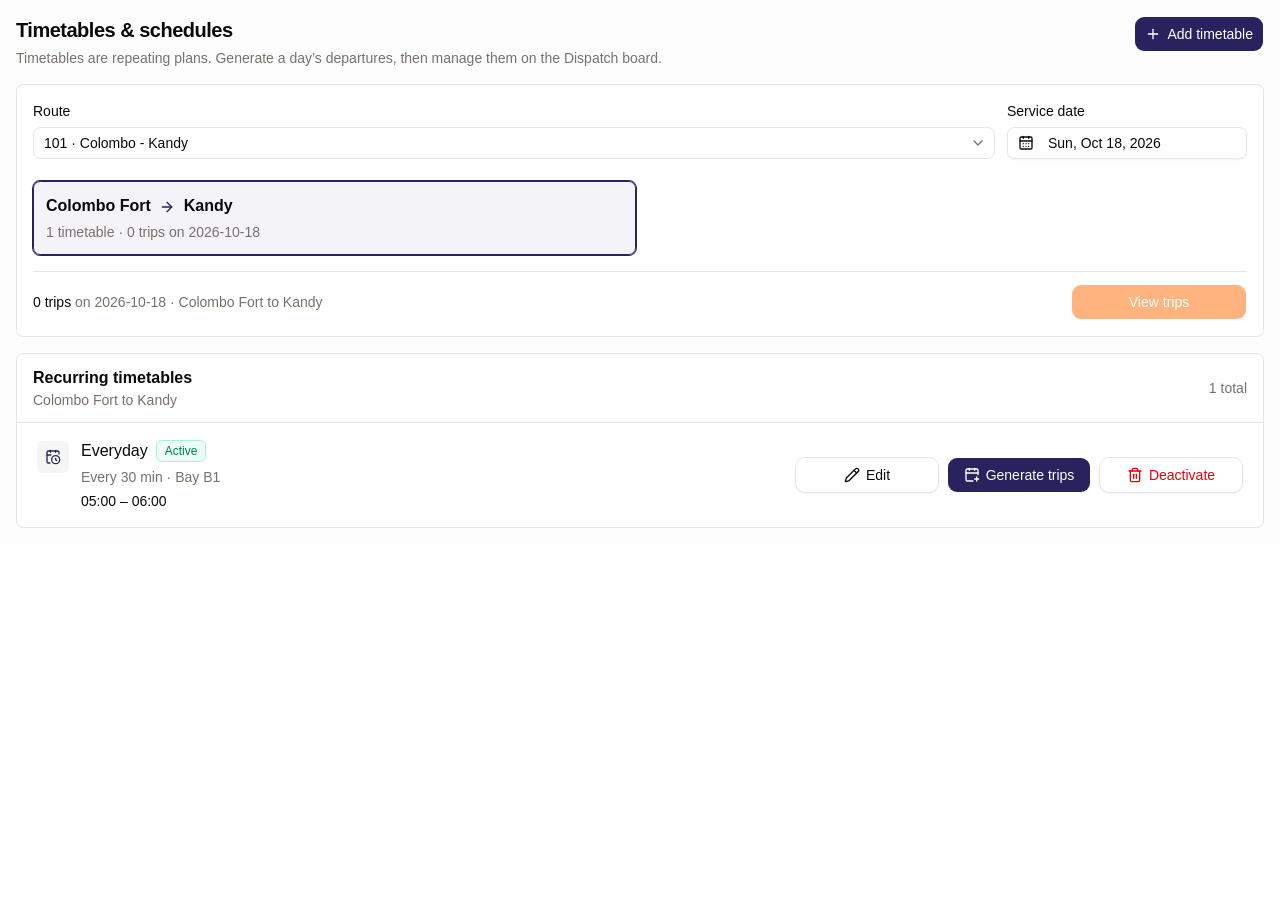
it: TimetablesPage actions › sends POST generate-trips with the service date and shows the generation summary
This screenshot has width=1280, height=900.
Step 1. Click the button "Generate trips" → click(1019, 475), box top-left (947, 457), bottom-right (1091, 493)
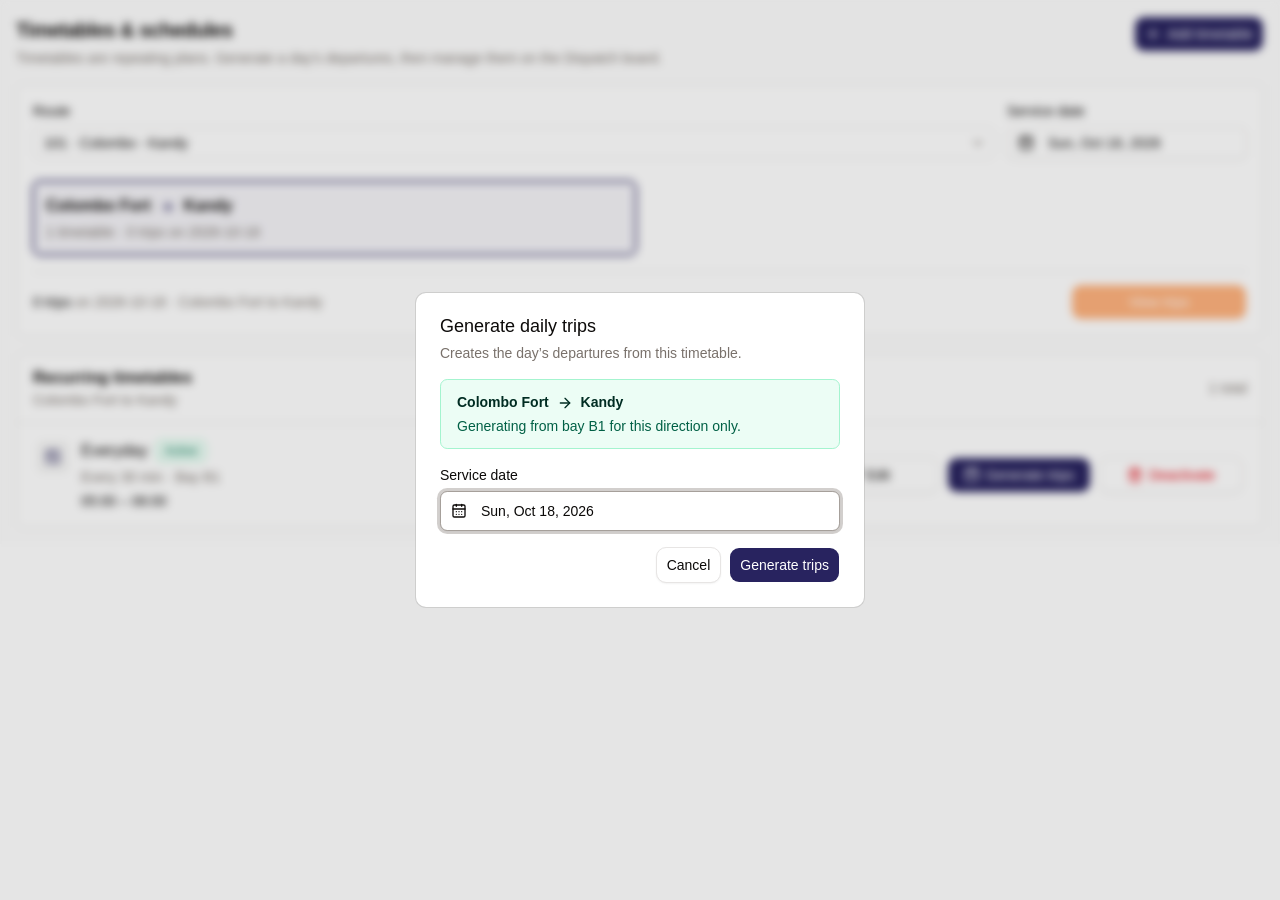
Result: the heading "Generate daily trips" is shown at top-left (440, 316), bottom-right (596, 336)
Step 2. Click the button "Generate trips" → click(785, 565), box top-left (729, 547), bottom-right (840, 583)
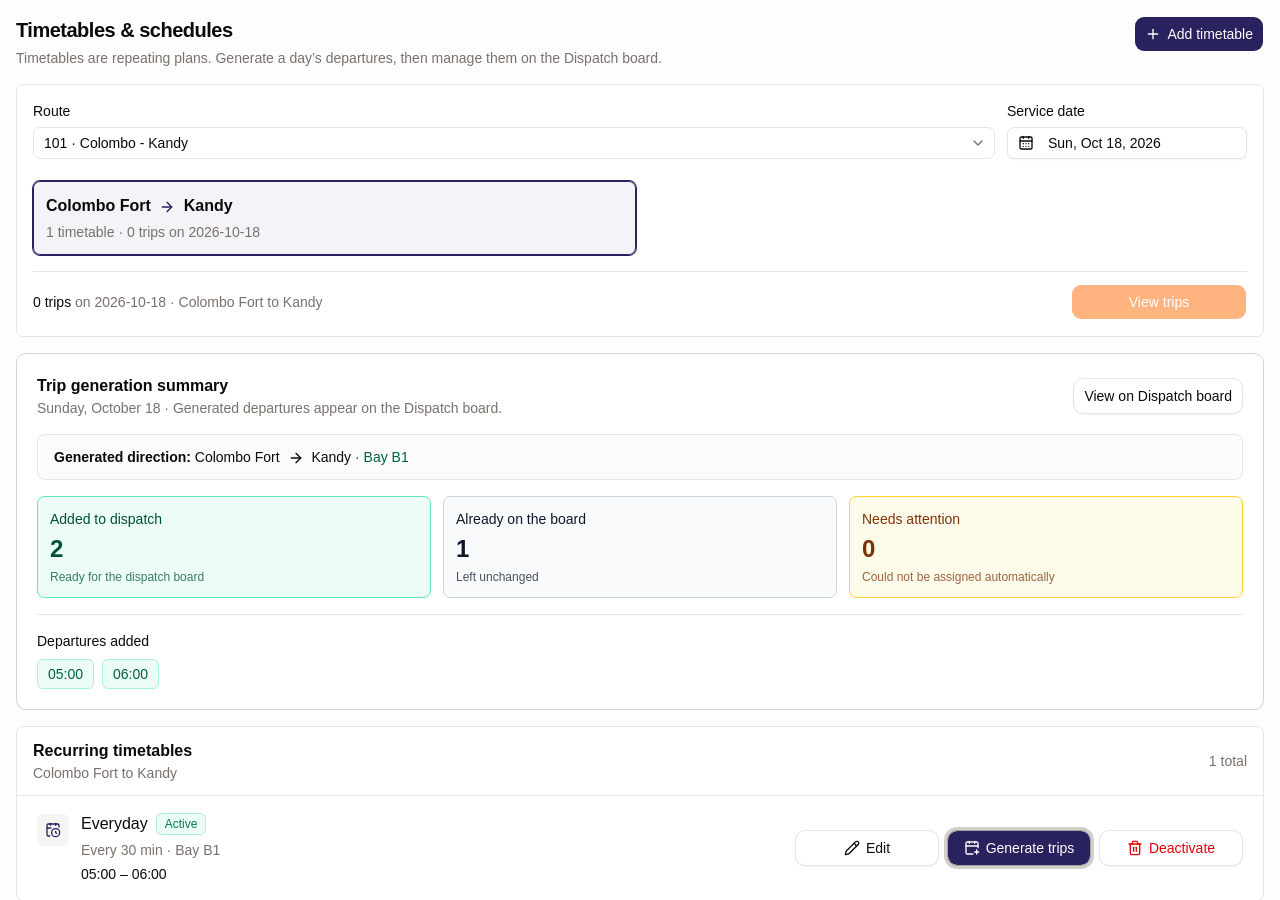
Result: the heading "Trip generation summary" is shown at top-left (37, 377), bottom-right (228, 394)
Result: the text "Added to dispatch" is shown at top-left (50, 511), bottom-right (162, 527)
Result: the text "Departures added" is shown at top-left (37, 633), bottom-right (149, 649)
